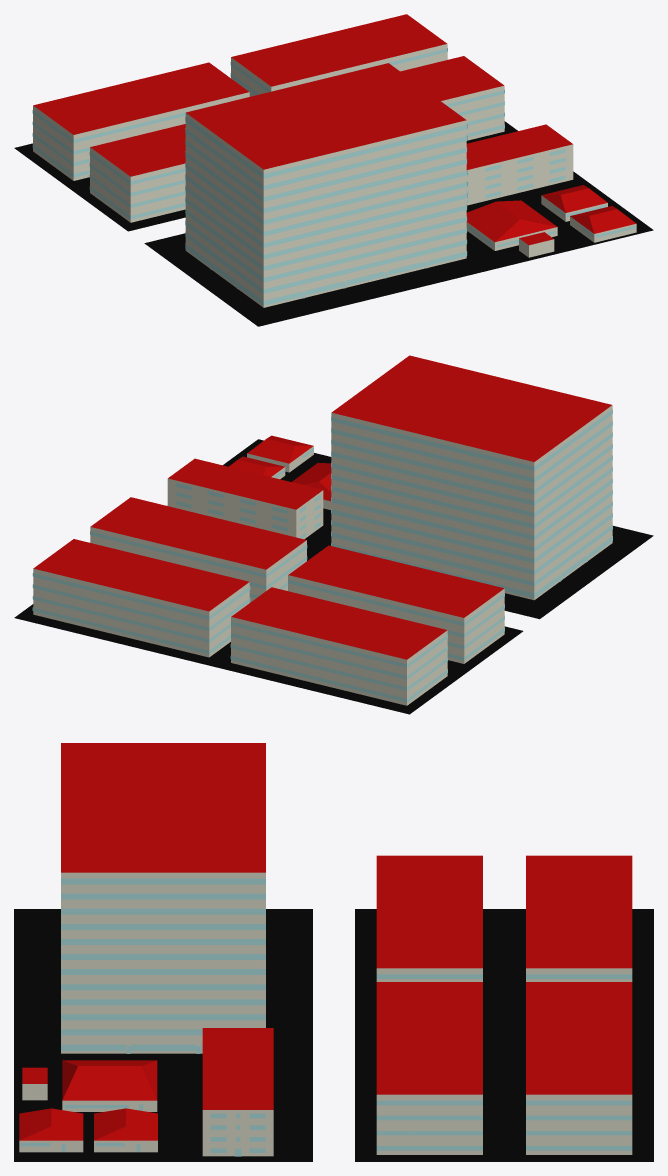
3 renders of one model, top to bottom at view 1: azimuth 30°, elevation 25°; view 2: azimuth 150°, elevation 25°; view 3: azimuth 270°, elevation 25°, orthographic. The views are drawn at different scales.
Parts seen in each view (by area): view 1: Roofs, Walls, Windows, Ground; view 2: Walls, Roofs, Windows, Ground; view 3: Roofs, Ground, Walls, Windows.
Part boxes in pixels (left/top/right/bottom): Roofs: left=33, top=14, right=635, bottom=245; Walls: left=33, top=44, right=636, bottom=307; Windows: left=32, top=48, right=635, bottom=305; Ground: left=14, top=121, right=653, bottom=326; Walls: left=33, top=405, right=612, bottom=705; Roofs: left=33, top=355, right=611, bottom=659; Windows: left=32, top=409, right=612, bottom=702; Ground: left=14, top=439, right=653, bottom=714; Roofs: left=19, top=743, right=632, bottom=1140; Ground: left=14, top=909, right=653, bottom=1161; Walls: left=19, top=872, right=632, bottom=1156; Windows: left=20, top=878, right=632, bottom=1156.
Bounding box in the file's own units: 142 × 50 × 152.
